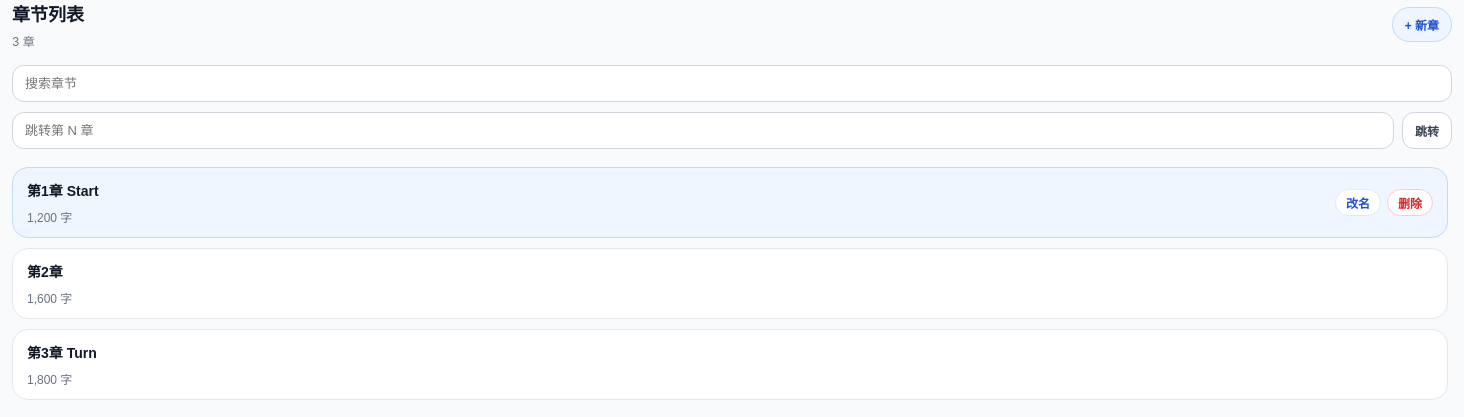
Test: ChapterSidebar › filters chapters by search keyword without changing source order
Step 1. Type "Turn" into the field with class "sidebar-tool-input" showing "搜索章节" → (732, 84), box top-left (12, 65), bottom-right (1452, 102)
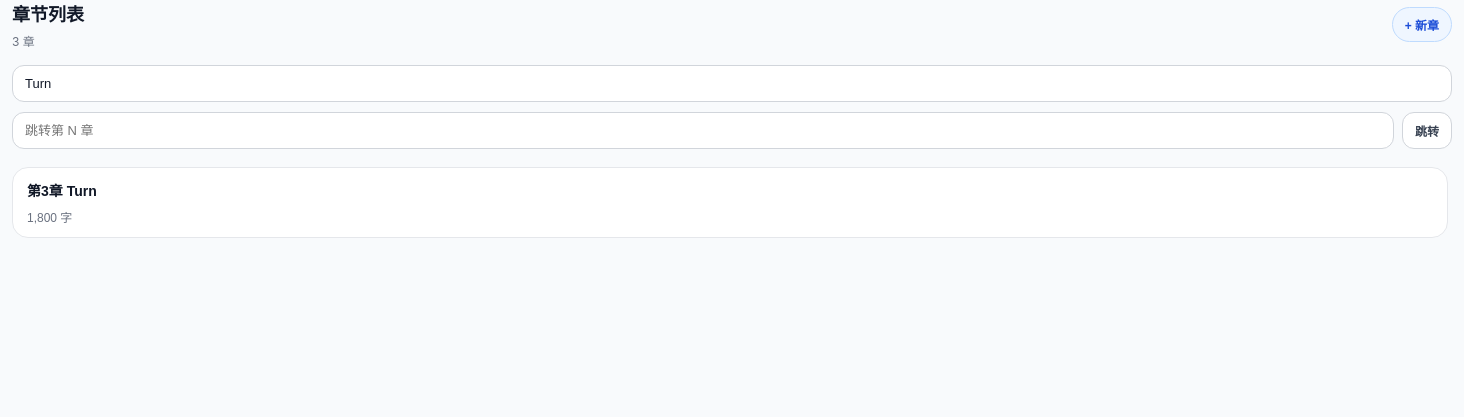
expect the text "第3章 Turn" is shown: met, box top-left (27, 180), bottom-right (97, 200)
expect the number of elements with class "chapter-item" is 1: met, box top-left (12, 167), bottom-right (1448, 238)
expect the text "第1章 Start" is gone: met
